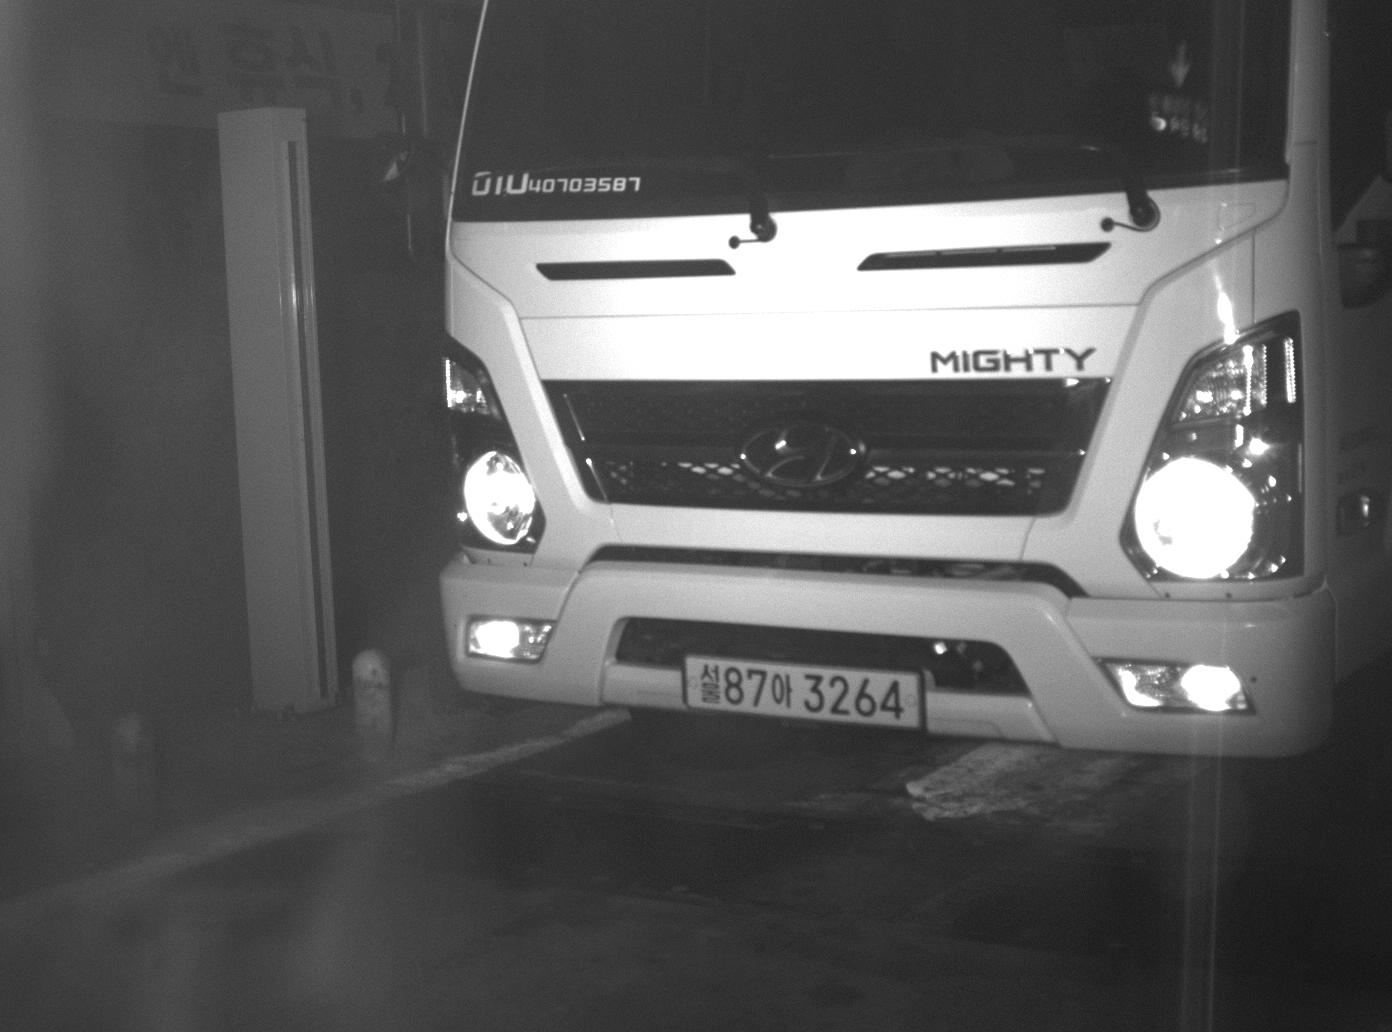car: (425, 1, 1392, 765)
plate: (681, 653, 926, 733)
